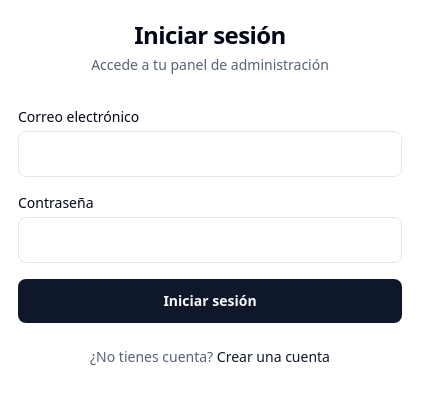
Scenario: LoginPage › shows validation error for invalid email
The width and height of the screenshot is (421, 393).
Type "not-an-email" into the field labelled "Correo electrónico" at (210, 154), box 18,131 -> 402,177
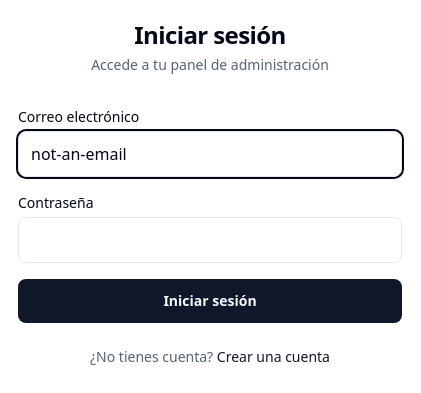
Type "password123" into the password field labelled "Contraseña" at (210, 240), box 18,217 -> 402,263
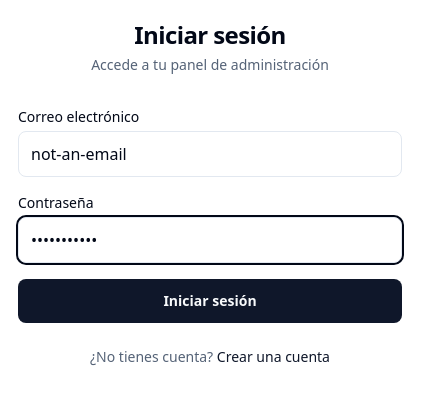
Click the button "Iniciar sesión" at (210, 301), box 18,279 -> 402,323
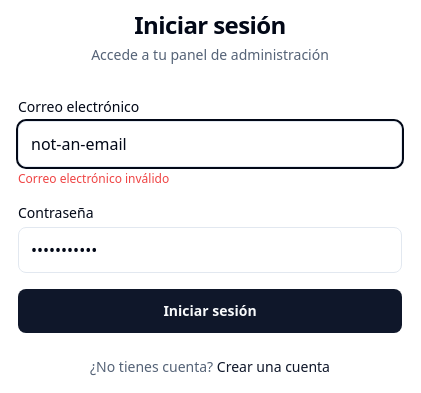
Now the message "Correo electrónico inválido" is shown, box 18,170 -> 169,187
